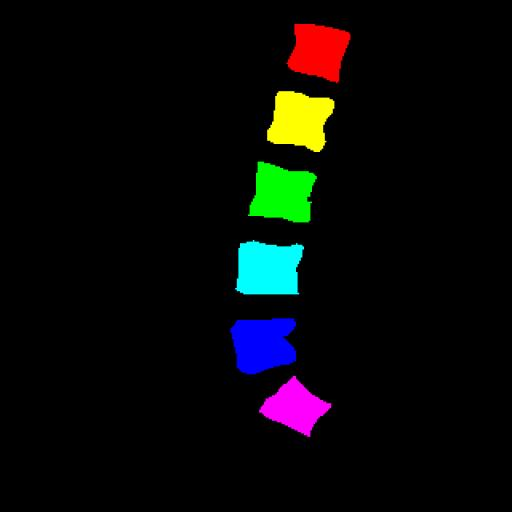L1: (287, 24, 350, 82)
L2: (267, 91, 334, 152)
L3: (249, 162, 317, 222)
L4: (236, 241, 304, 294)
L5: (231, 318, 297, 376)
S1: (259, 376, 331, 436)
